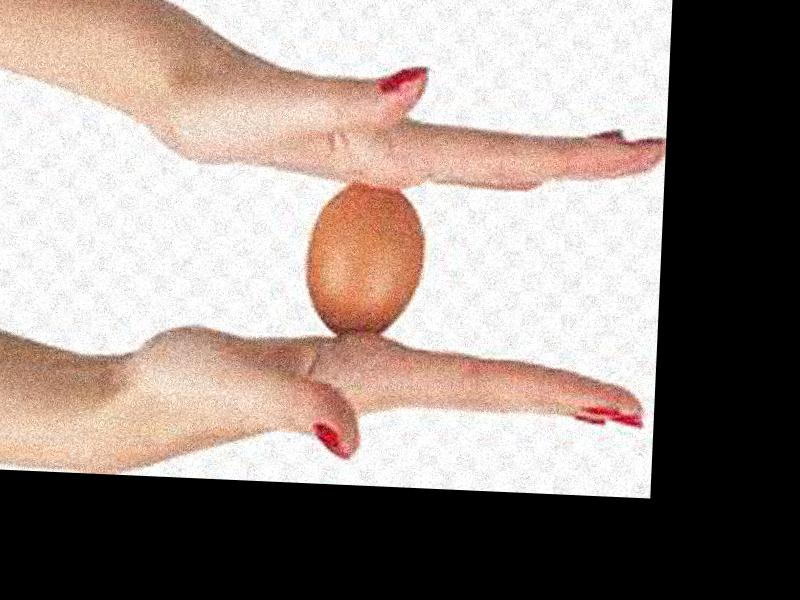Eggs: (303, 181, 423, 336)
